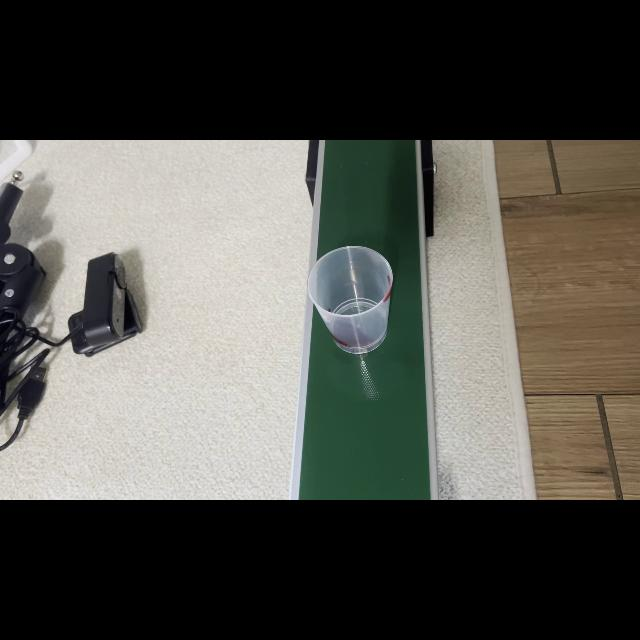dirty: (310, 246, 392, 348)
